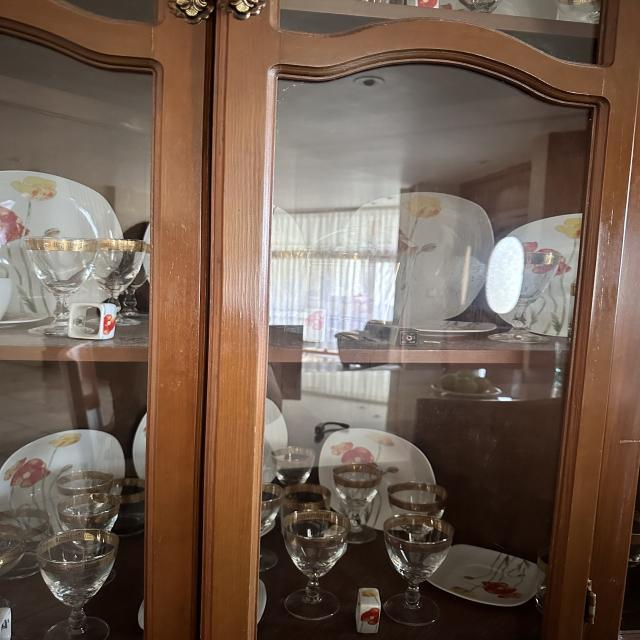hidden camera: (406, 336, 413, 341)
